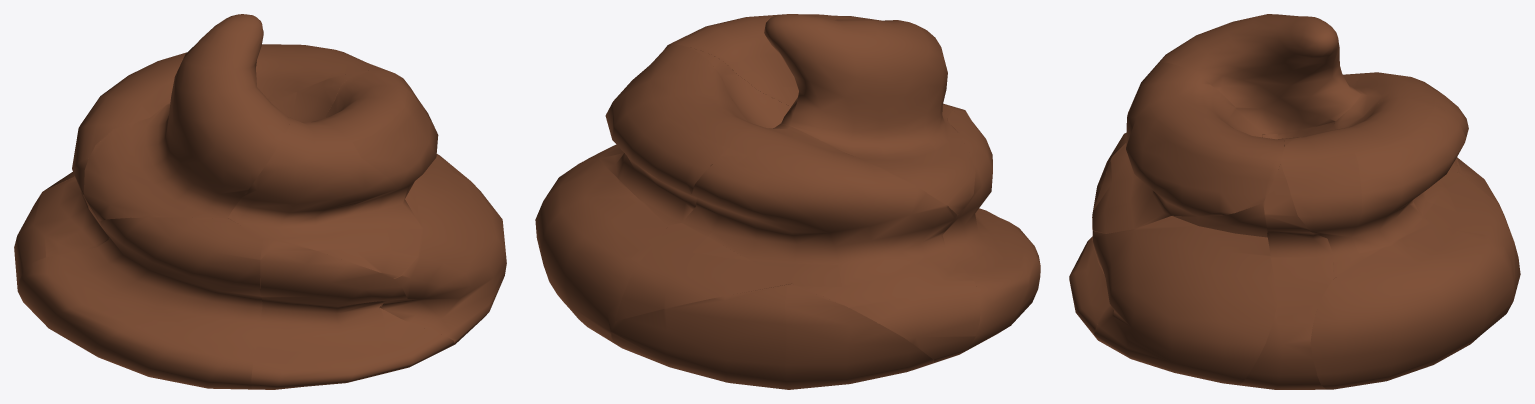
Rendered from Poop_Pieces (1).fbx.
The picture shows the model from 3 angles, left to right: view 1: azimuth 30°, elevation 25°; view 2: azimuth 150°, elevation 25°; view 3: azimuth 270°, elevation 25°; orthographic projection. The views are drawn at different scales.
Visible parts, largest first — view 1: Poop_001_cell.007, Poop_001_cell.011, Poop_001_cell.001, Poop_001_cell.003, Poop_001_cell.002, Poop_001_cell.010, Poop_001_cell.005, Poop_001_cell; view 2: Poop_001_cell.010, Poop_001_cell.001, Poop_001_cell.004, Poop_001_cell.005, Poop_001_cell.009, Poop_001_cell.007, Poop_001_cell.008, Poop_001_cell.011, Poop_001_cell; view 3: Poop_001_cell.002, Poop_001_cell.009, Poop_001_cell.011, Poop_001_cell.005, Poop_001_cell.001, Poop_001_cell, Poop_001_cell.006, Poop_001_cell.010, Poop_001_cell.008, Poop_001_cell.003, Poop_001_cell.004.
Part boxes in pixels (x1,y1,x2,y2): Poop_001_cell.007: [17, 217, 263, 389]; Poop_001_cell.011: [228, 70, 438, 278]; Poop_001_cell.001: [83, 14, 291, 221]; Poop_001_cell.003: [251, 238, 454, 389]; Poop_001_cell.002: [379, 107, 506, 344]; Poop_001_cell.010: [14, 55, 183, 290]; Poop_001_cell.005: [177, 44, 388, 101]; Poop_001_cell: [270, 70, 453, 172]; Poop_001_cell.010: [682, 124, 980, 362]; Poop_001_cell.001: [764, 14, 975, 214]; Poop_001_cell.004: [611, 284, 933, 389]; Poop_001_cell.005: [598, 45, 758, 226]; Poop_001_cell.009: [535, 159, 667, 342]; Poop_001_cell.007: [942, 111, 1040, 355]; Poop_001_cell.008: [615, 223, 791, 320]; Poop_001_cell.011: [665, 14, 951, 119]; Poop_001_cell: [585, 47, 790, 160]; Poop_001_cell.002: [1093, 203, 1277, 385]; Poop_001_cell.009: [1310, 223, 1514, 389]; Poop_001_cell.011: [1092, 62, 1284, 233]; Poop_001_cell.005: [1281, 97, 1466, 279]; Poop_001_cell.001: [1157, 14, 1362, 134]; Poop_001_cell: [1262, 122, 1336, 303]; Poop_001_cell.006: [1239, 301, 1326, 389]; Poop_001_cell.010: [1334, 72, 1468, 216]; Poop_001_cell.008: [1423, 172, 1515, 283]; Poop_001_cell.003: [1069, 132, 1126, 338]; Poop_001_cell.004: [1456, 157, 1520, 314].
Size of the model in its own units: 58.63 by 37.33 by 54.21.
